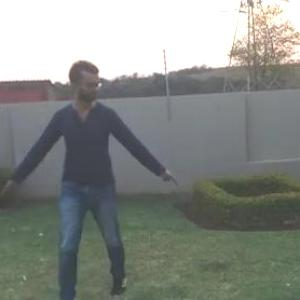land: (1, 63, 179, 296)
